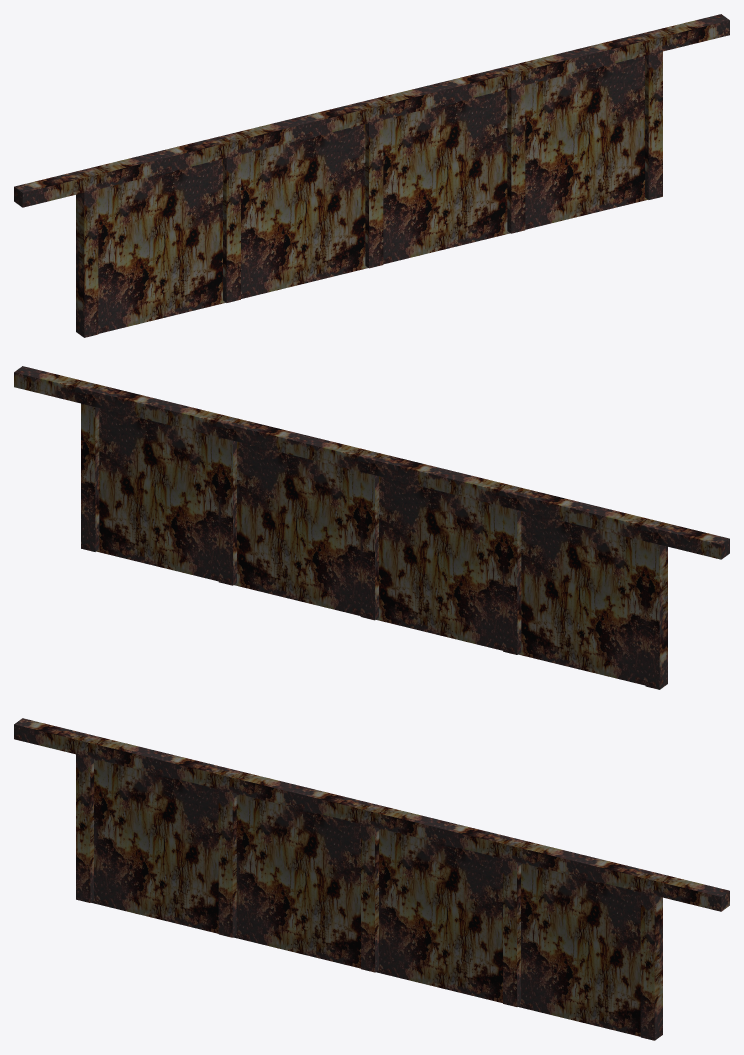
Rendered from Perila.FBX.
The picture shows the model from 3 angles, top to bottom: view 1: azimuth 30°, elevation 25°; view 2: azimuth 150°, elevation 25°; view 3: azimuth 330°, elevation 25°; orthographic projection.
Visible parts, largest first — view 1: PerilaSetka, PerilaFull; view 2: PerilaSetka, PerilaFull; view 3: PerilaSetka, PerilaFull.
Part boxes in pixels (x1=…): PerilaSetka: x1=98, y1=56, x2=647, y2=333; PerilaFull: x1=14, y1=14, x2=729, y2=337; PerilaSetka: x1=96, y1=408, x2=645, y2=685; PerilaFull: x1=14, y1=366, x2=729, y2=689; PerilaSetka: x1=91, y1=759, x2=640, y2=1036; PerilaFull: x1=14, y1=718, x2=729, y2=1040.
Bounding box in the file's own units: 50 × 11.05 × 1.06.
